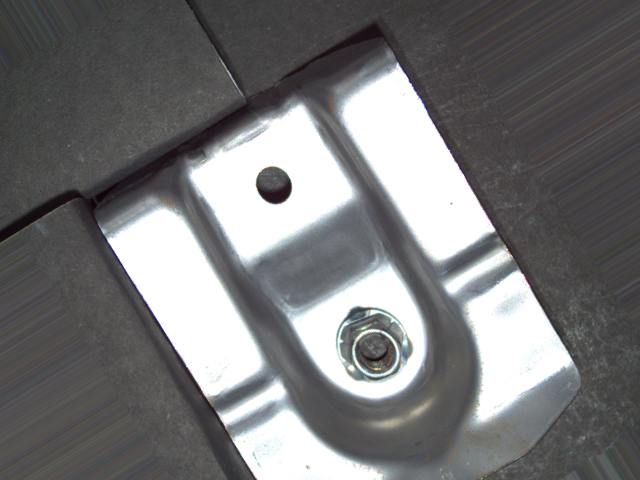good: (333, 303, 415, 386)
